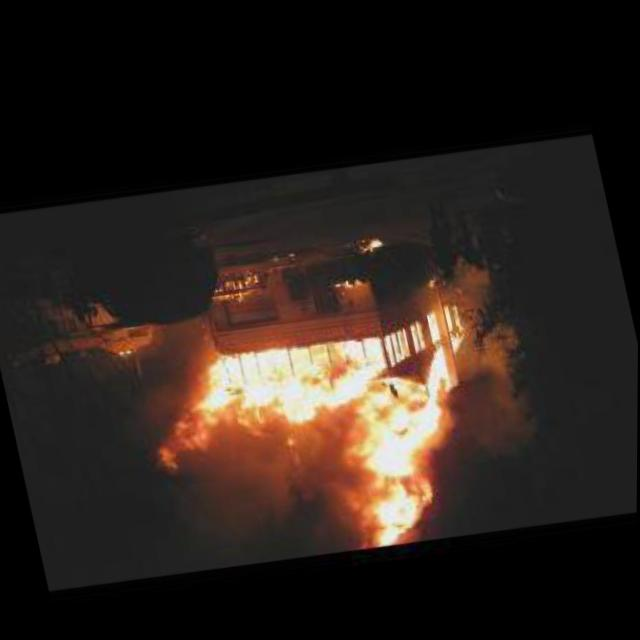Fire: (124, 269, 515, 596), (212, 264, 267, 308), (327, 269, 363, 289), (354, 230, 384, 254), (424, 270, 439, 289), (118, 349, 133, 357)
